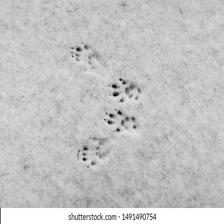squirrel: (102, 109, 139, 141), (108, 78, 144, 106)
